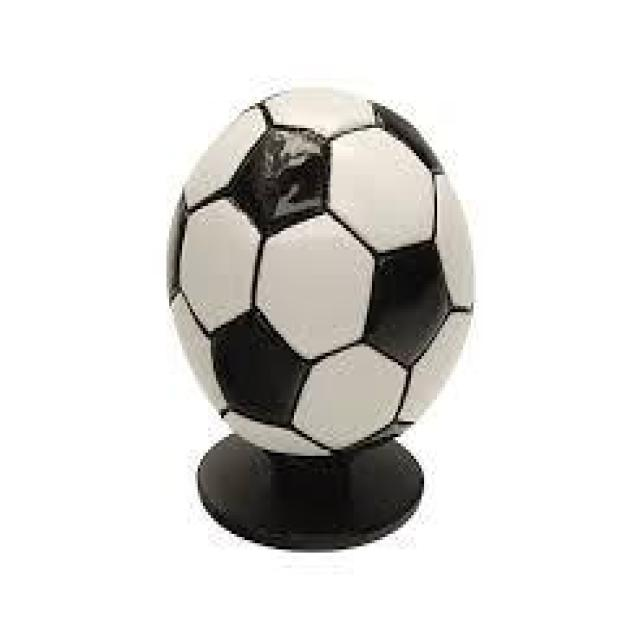Soccer Ball: (164, 81, 471, 462)
